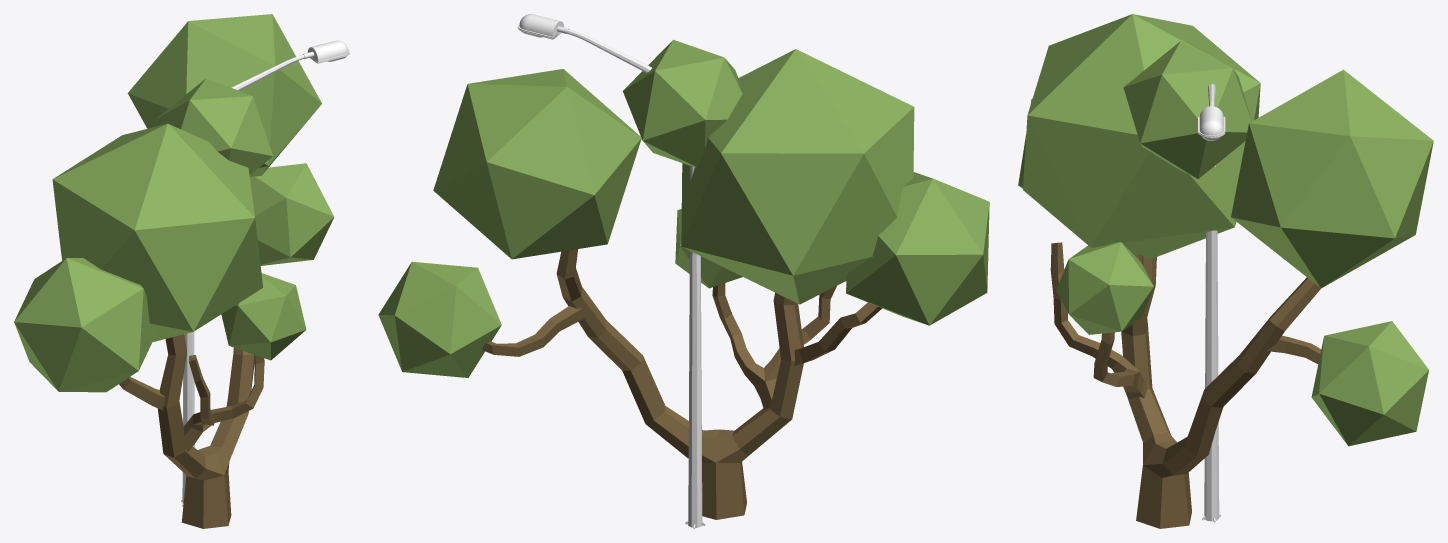
File: props.glb
3 renders of one model, left to right at view 1: azimuth 30°, elevation 25°; view 2: azimuth 150°, elevation 25°; view 3: azimuth 270°, elevation 25°, orthographic. The views are drawn at different scales.
Parts seen in each view (by area): view 1: tree_leaves, tree_trunk, lamp_body; view 2: tree_leaves, tree_trunk, lamp_body; view 3: tree_leaves, tree_trunk, lamp_body.
Part boxes in pixels (left/top/right/bottom): tree_leaves: left=14, top=14, right=334, bottom=392; tree_trunk: left=119, top=334, right=264, bottom=528; lamp_body: left=181, top=40, right=349, bottom=506; tree_leaves: left=378, top=39, right=989, bottom=377; tree_trunk: left=482, top=249, right=882, bottom=519; lamp_body: left=517, top=14, right=705, bottom=528; tree_leaves: left=1018, top=14, right=1433, bottom=446; tree_trunk: left=1050, top=242, right=1321, bottom=528; lamp_body: left=1198, top=83, right=1225, bottom=522.
Size of the model in its own units: 1.05 by 1 by 0.7837.
